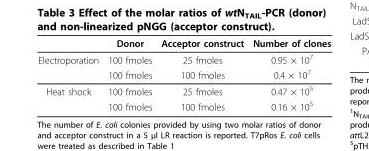table: (37, 37, 330, 111)
table column: (155, 37, 247, 111), (247, 37, 330, 111), (37, 37, 102, 111), (102, 37, 155, 111)
table column header: (37, 37, 330, 50)
table row: (37, 50, 330, 66), (37, 66, 330, 82), (37, 82, 330, 98), (37, 37, 330, 50), (37, 98, 330, 111)
table spanning cell: (37, 50, 102, 82), (37, 82, 102, 111)
